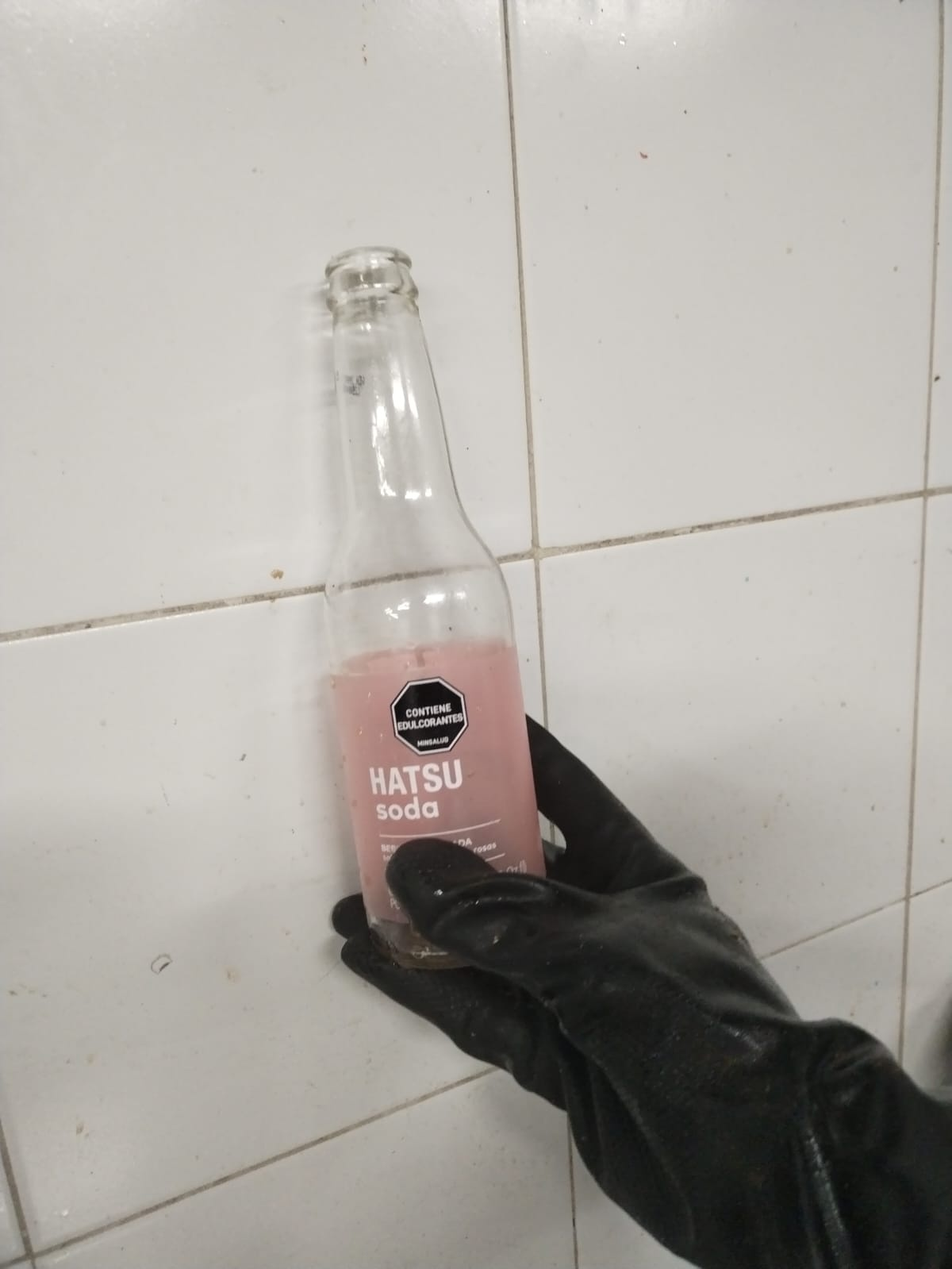Vidrio: (310, 244, 536, 970)
